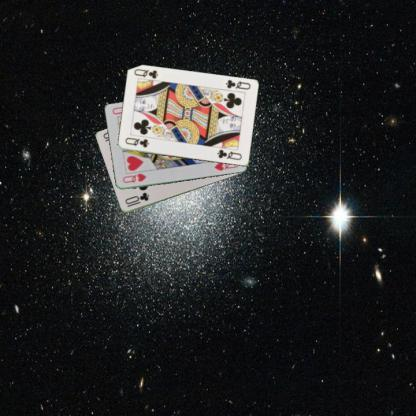10c: (122, 190, 150, 209)
Qc: (222, 77, 252, 91), (122, 135, 150, 149)
Qh: (121, 170, 148, 184)
